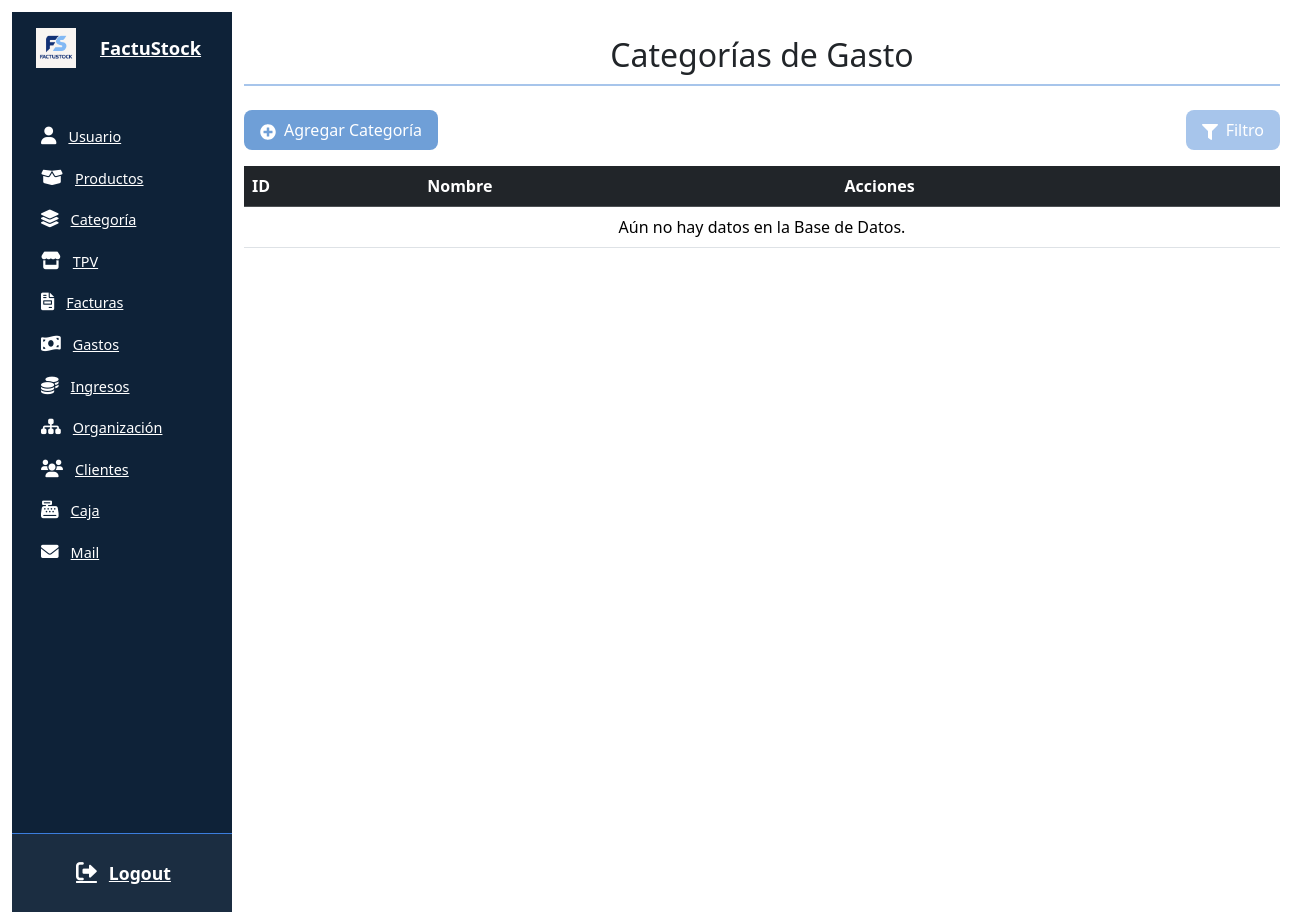
Scenario: CategoriaGastoComponent › abre y cierra el modal correctamente
The width and height of the screenshot is (1292, 912).
Click the button "Agregar Categoría".
click(341, 130)  # box [244,110,438,150]
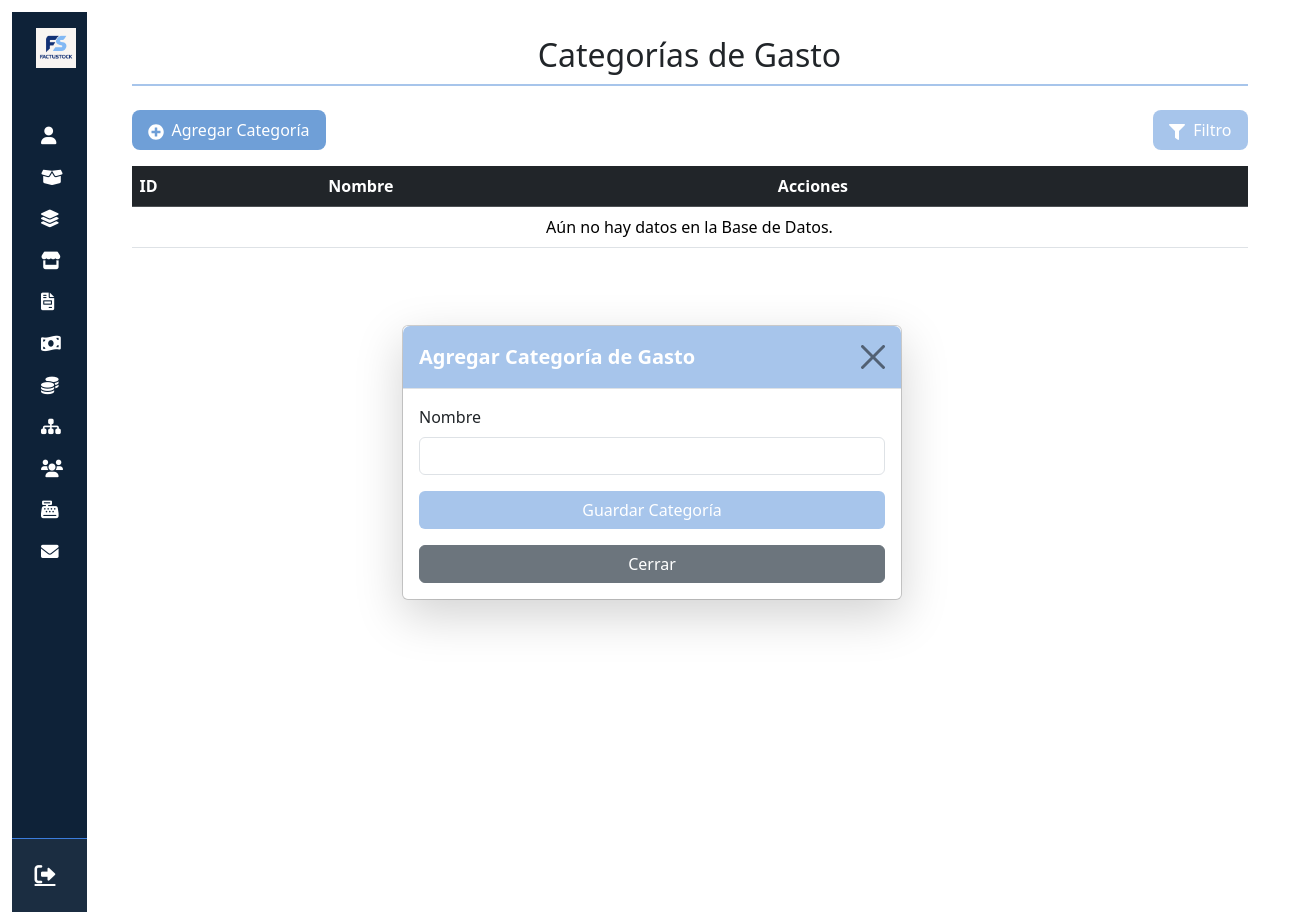
Expected: the button "Guardar Categoría" is shown, [419,490,885,528]
Click the button "Cerrar".
click(652, 564)  # box [419,544,885,582]
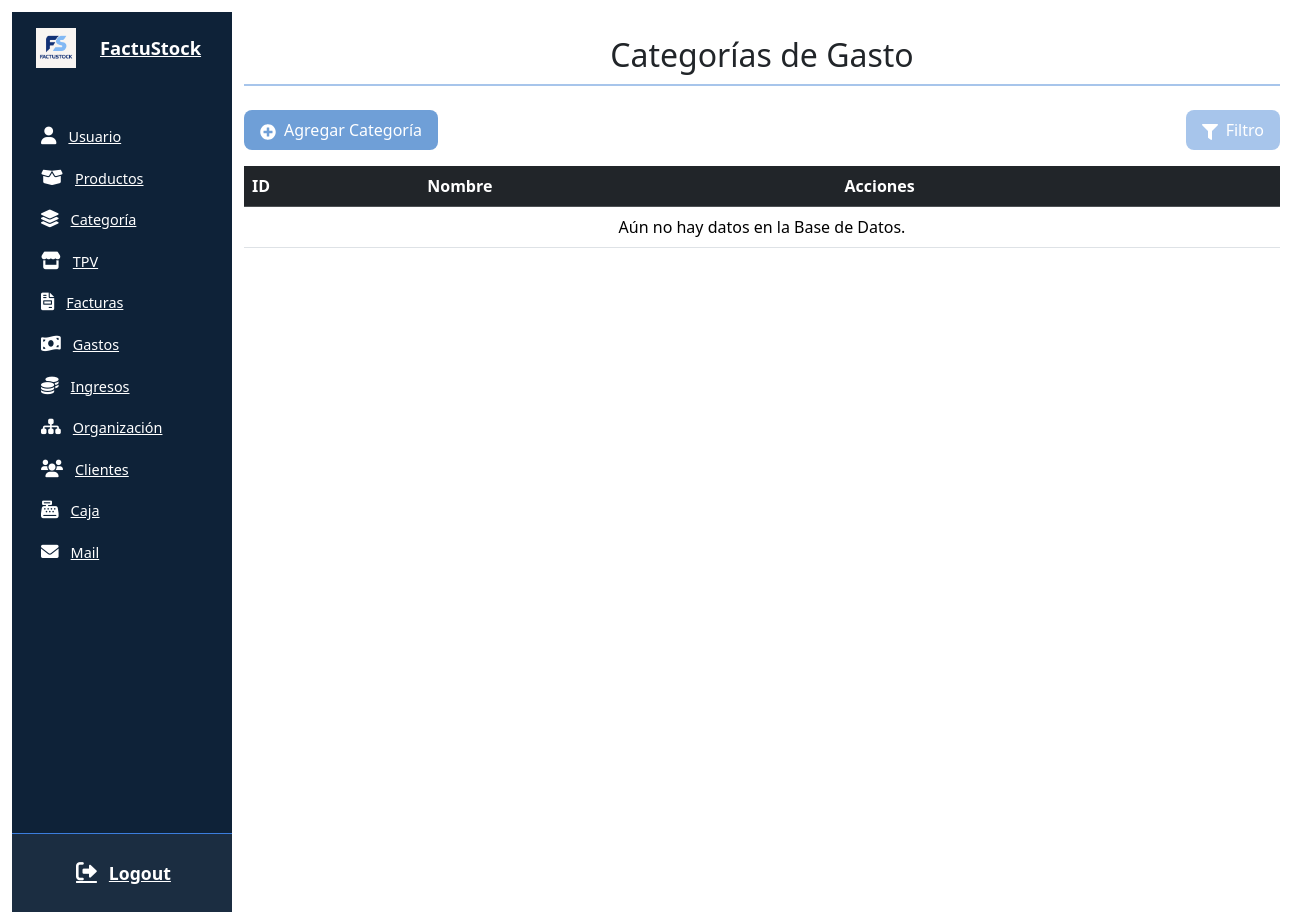
Expected: the button "Guardar Categoría" is gone
